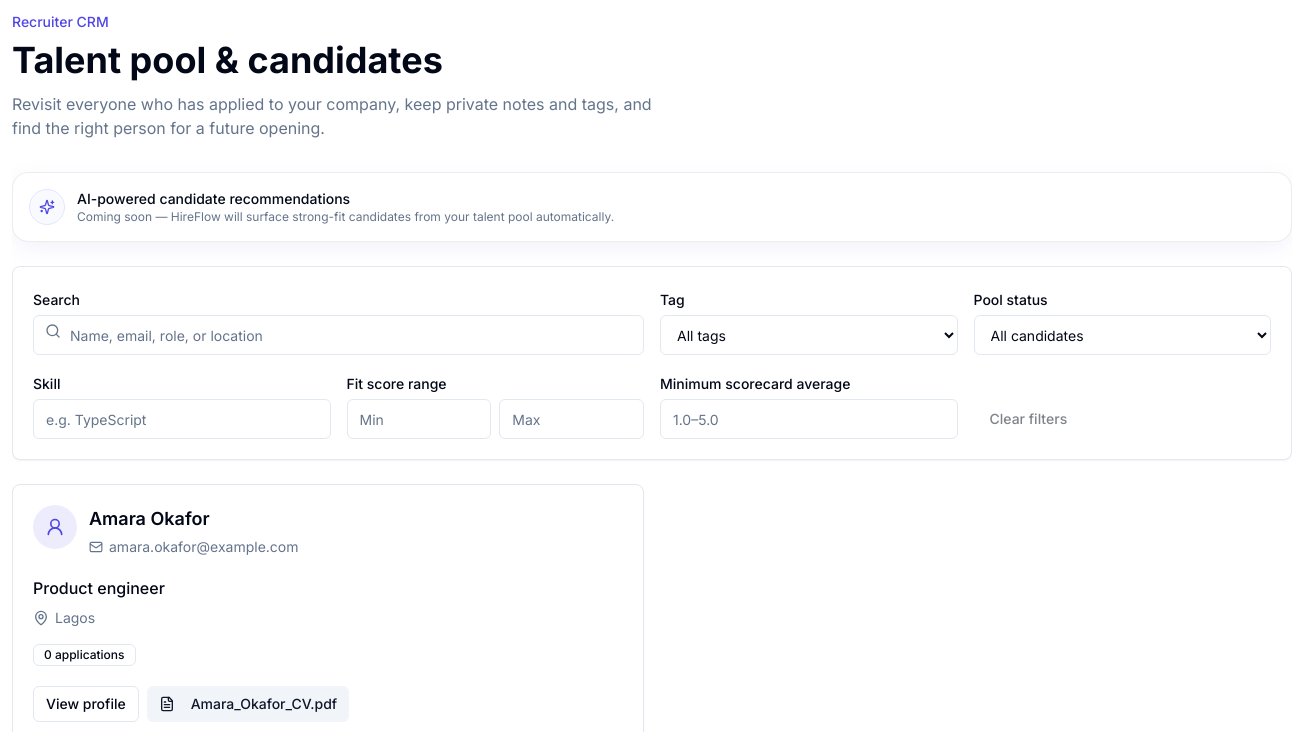
RecruiterCandidatesPage › filters candidates without changing the API scope
The width and height of the screenshot is (1292, 732).
Type "Beirut" into the field named "Search candidates" at (338, 335), box [33, 315, 644, 355]
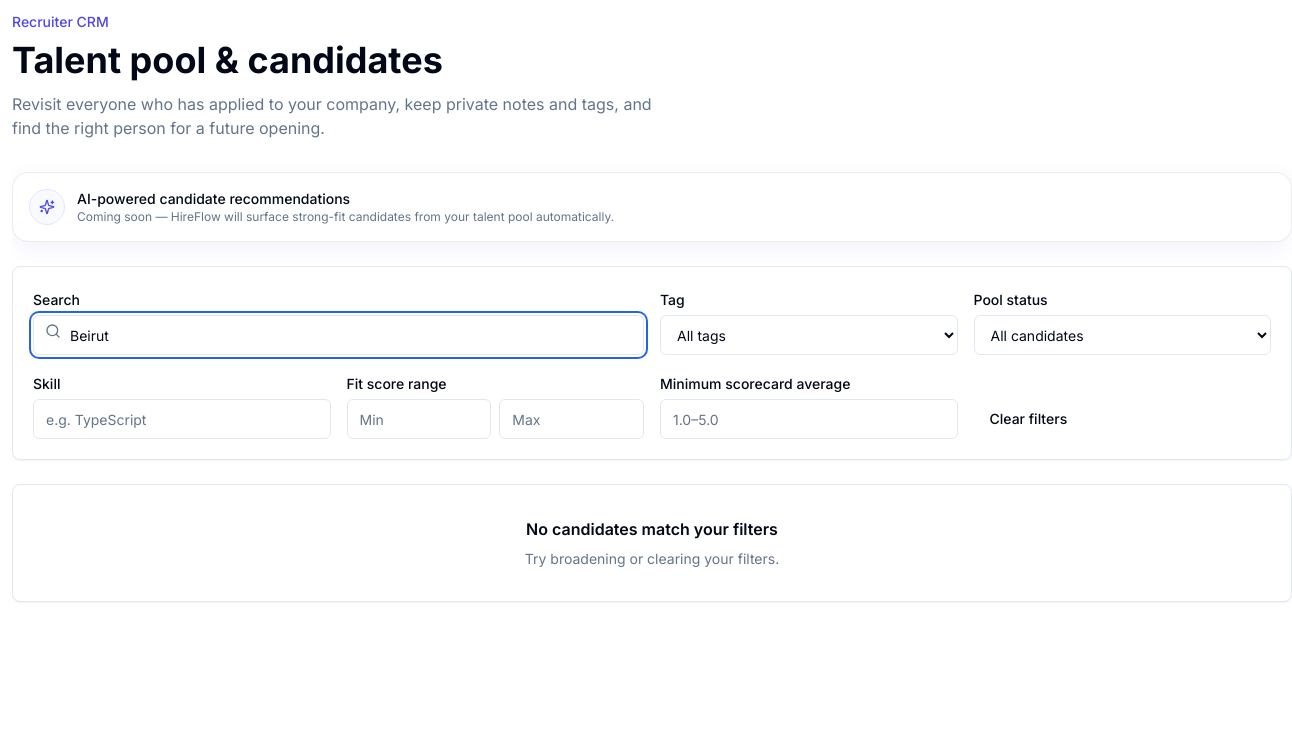
Expected: the heading "Amara Okafor" is gone
Expected: the heading "No candidates match your filters" is shown, [526, 519, 778, 539]
